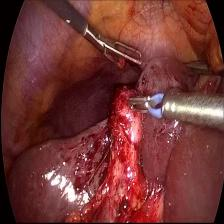Bipolar: (125, 83, 166, 123)
Grasper: (95, 26, 144, 80)
